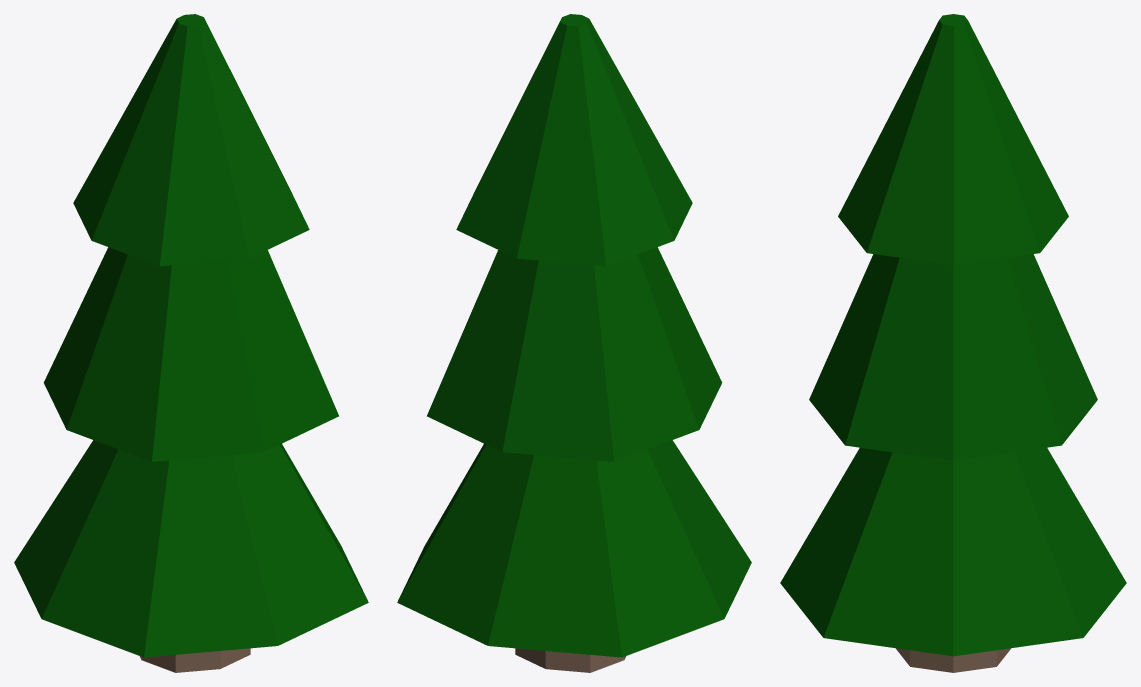
Rendered from prop-tree.fbx.
3 renders of one model, left to right at view 1: azimuth 30°, elevation 25°; view 2: azimuth 150°, elevation 25°; view 3: azimuth 270°, elevation 25°, orthographic.
Visible parts, largest first — view 1: prop-tree; view 2: prop-tree; view 3: prop-tree.
Part boxes in pixels (bbox=[...]): prop-tree: bbox=[14, 14, 368, 672]; prop-tree: bbox=[397, 14, 751, 672]; prop-tree: bbox=[780, 14, 1126, 672].
Bounding box in the file's own units: 75 × 150 × 75.
